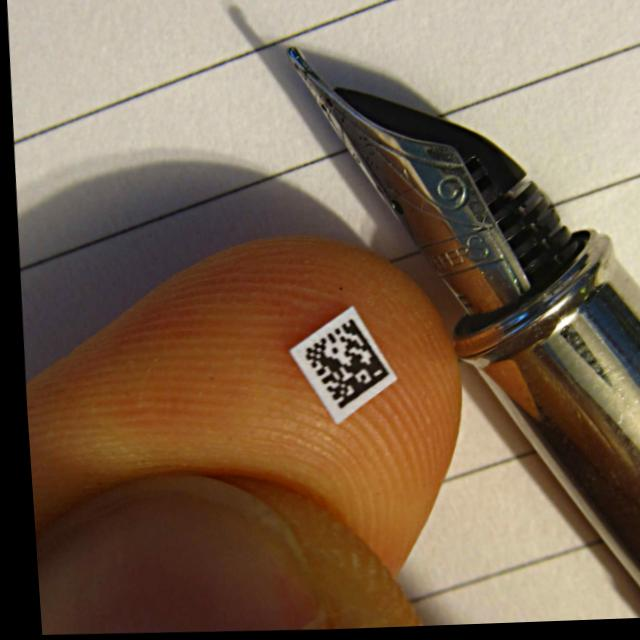datamatrix: (297, 319, 387, 413)
